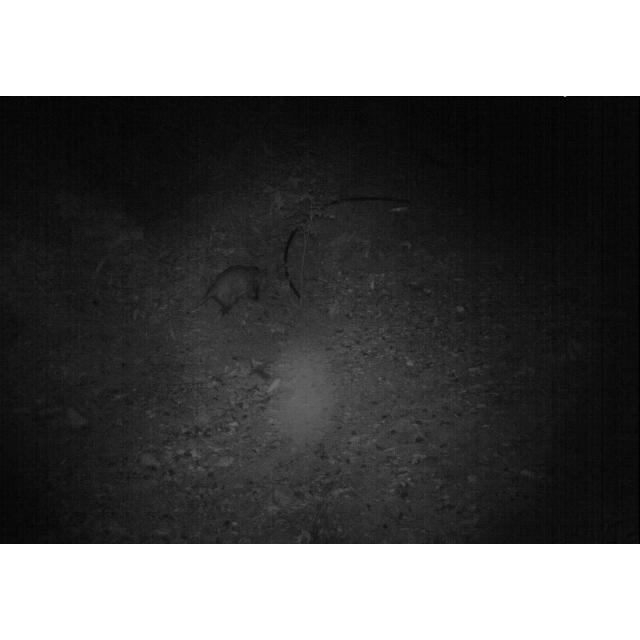animals: (197, 262, 269, 318)
